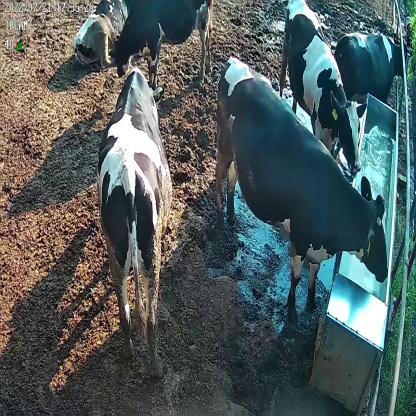cow: (214, 55, 391, 316), (93, 70, 175, 377), (278, 0, 366, 176), (109, 0, 215, 89), (334, 32, 409, 107)
